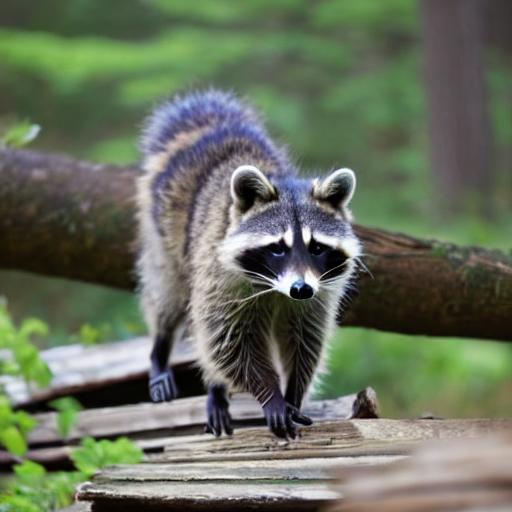raccoon: (123, 78, 376, 368)
